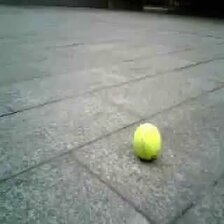tennis: (133, 122, 159, 159)
